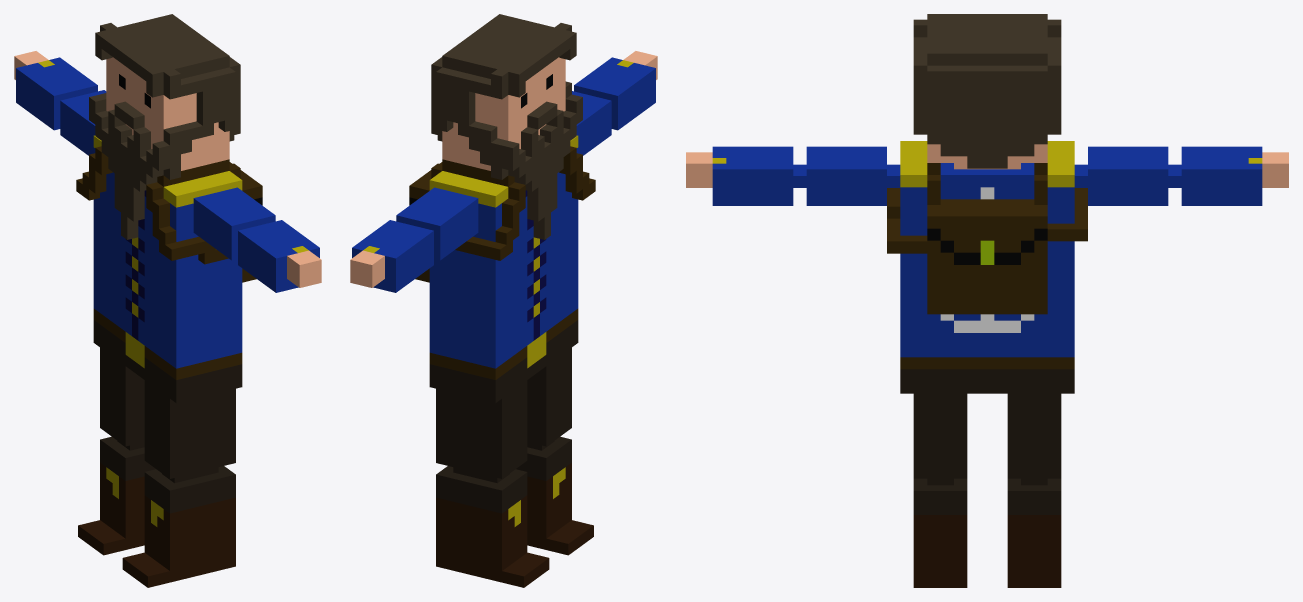
File: Captain Naruto D. Goku.obj
The picture shows the model from 3 angles, left to right: view 1: azimuth 30°, elevation 25°; view 2: azimuth 150°, elevation 25°; view 3: azimuth 270°, elevation 25°; orthographic projection. The views are drawn at different scales.
Size of the model in its own units: 11 by 44 by 45.
1 material, 1 textured.
